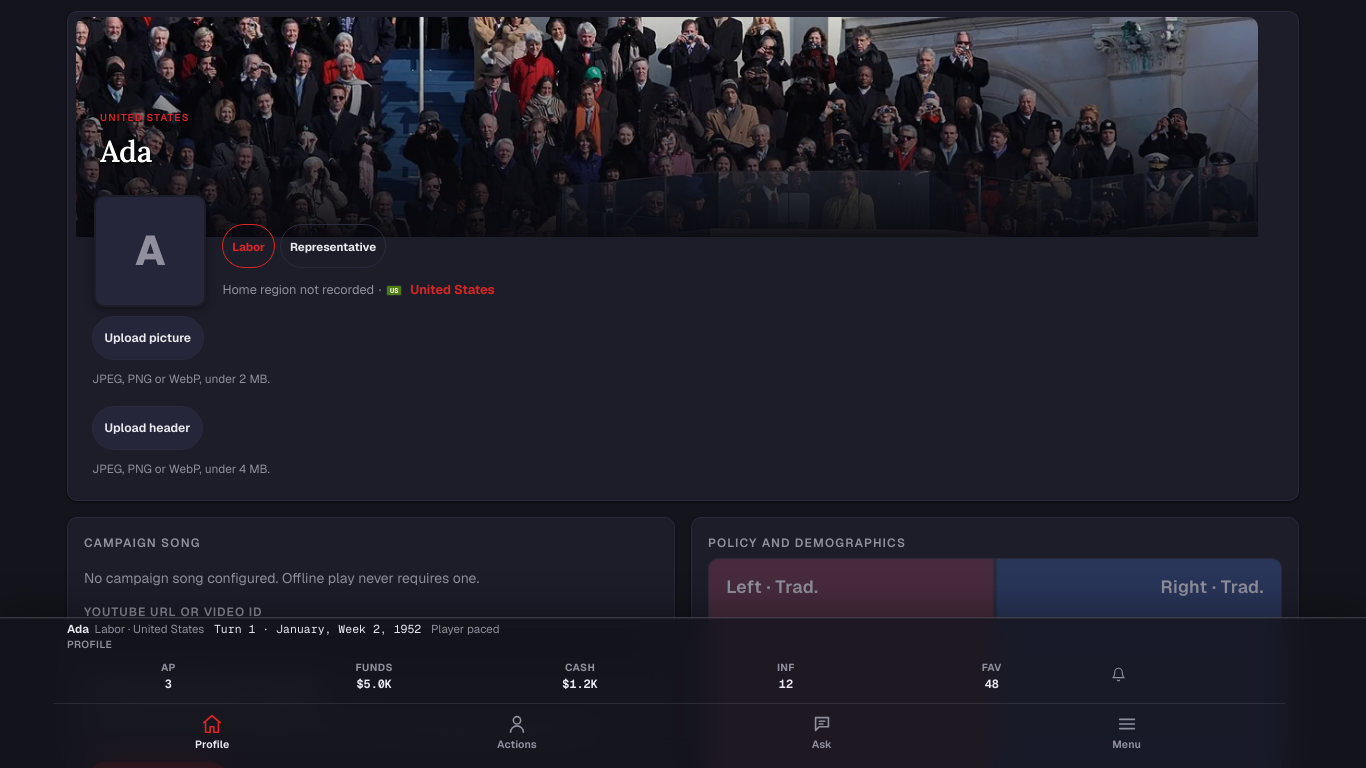
it: Actions hero imagery › renders the offline actions hero above the intact ActionsHub hierarchy on the career route
Click the button "Actions": (517,734) [365,706,669,762]
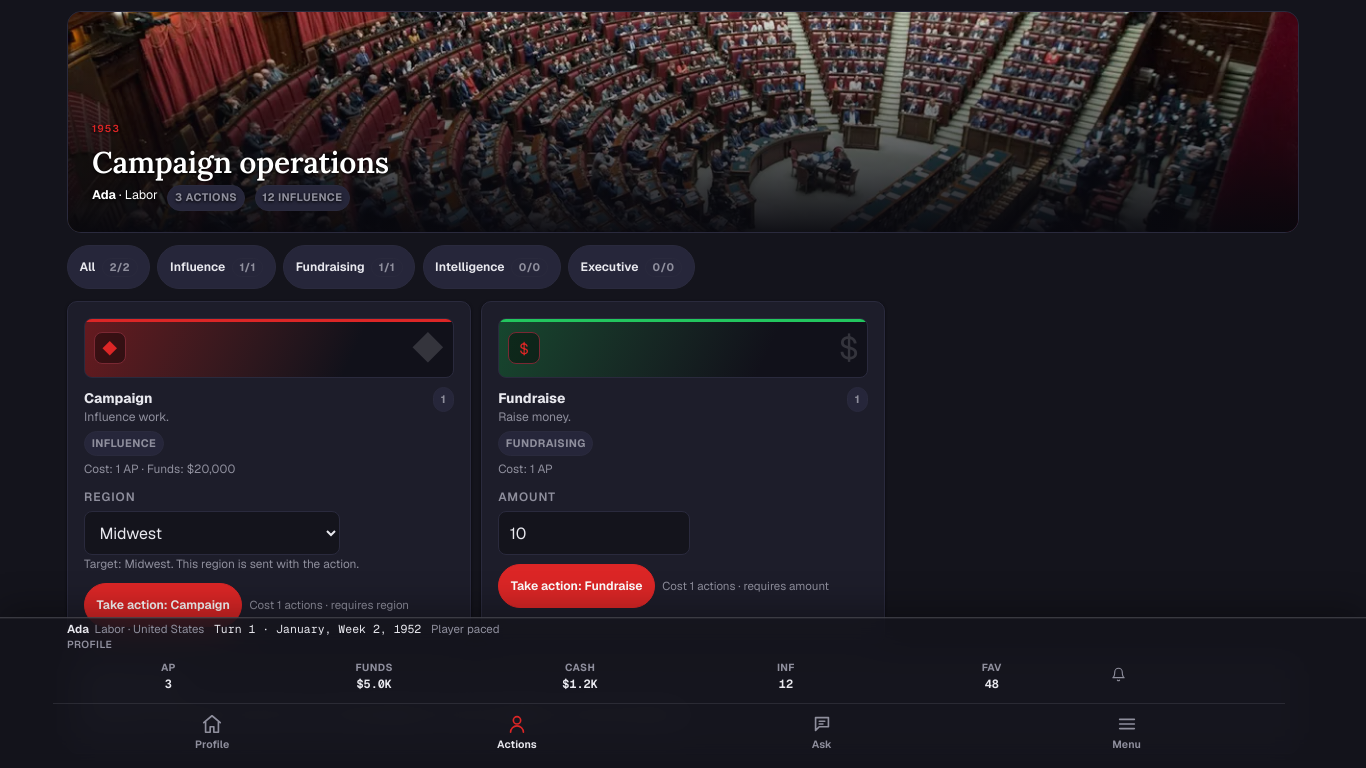
Now the heading "Campaign operations" is shown, box [92,143,389,181]
Now the text "1953" is shown, box [92,122,120,135]
Now the tab with aria-label "all, 2 of 2 available" is shown, box [67,245,150,289]
